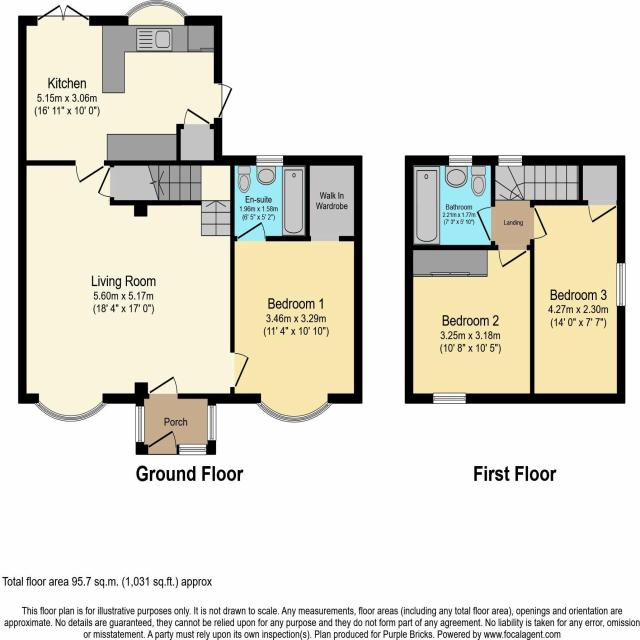DOOR: (497, 244, 528, 269), (74, 160, 105, 185), (475, 206, 496, 242), (230, 352, 250, 388), (529, 206, 549, 241), (237, 221, 266, 242)
DOUBLE DOOR: (36, 4, 90, 23)
ROOM: (18, 0, 233, 185), (230, 220, 363, 423), (404, 244, 535, 404), (529, 200, 626, 404), (404, 155, 496, 250)
WINDOW: (256, 400, 333, 423), (34, 399, 109, 422), (123, 0, 189, 20), (616, 262, 626, 308), (432, 392, 467, 405), (135, 406, 145, 443), (179, 443, 207, 456), (207, 405, 217, 441), (256, 155, 284, 167), (498, 155, 523, 167), (448, 155, 473, 166)
